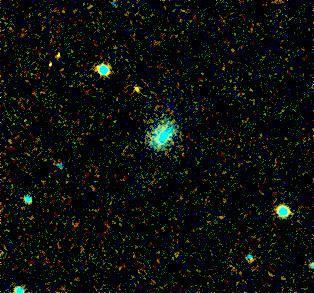star: (120, 74, 150, 104)
